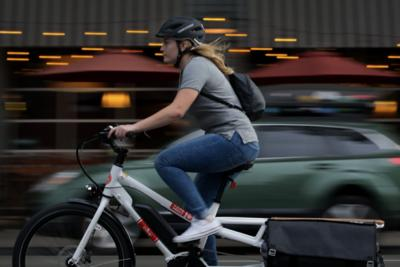With Helmet: (158, 15, 205, 66)
